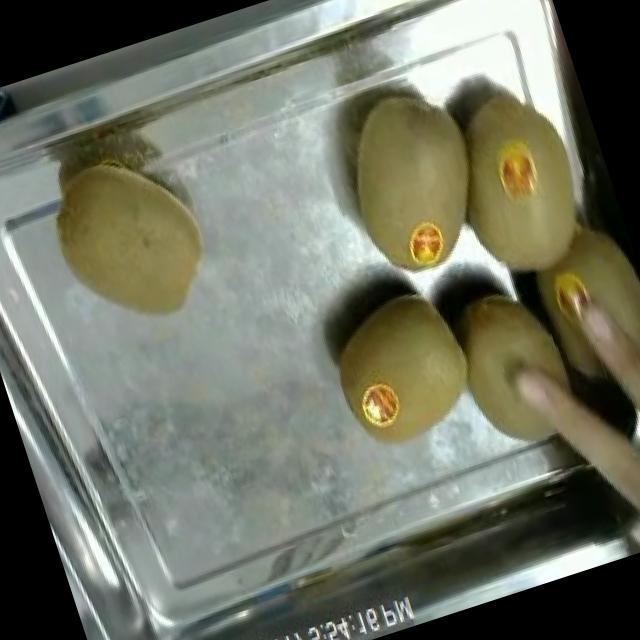Fruit: (414, 60, 632, 308), (28, 128, 240, 355), (314, 68, 514, 295), (307, 270, 490, 472), (428, 254, 586, 476), (423, 0, 551, 28)
